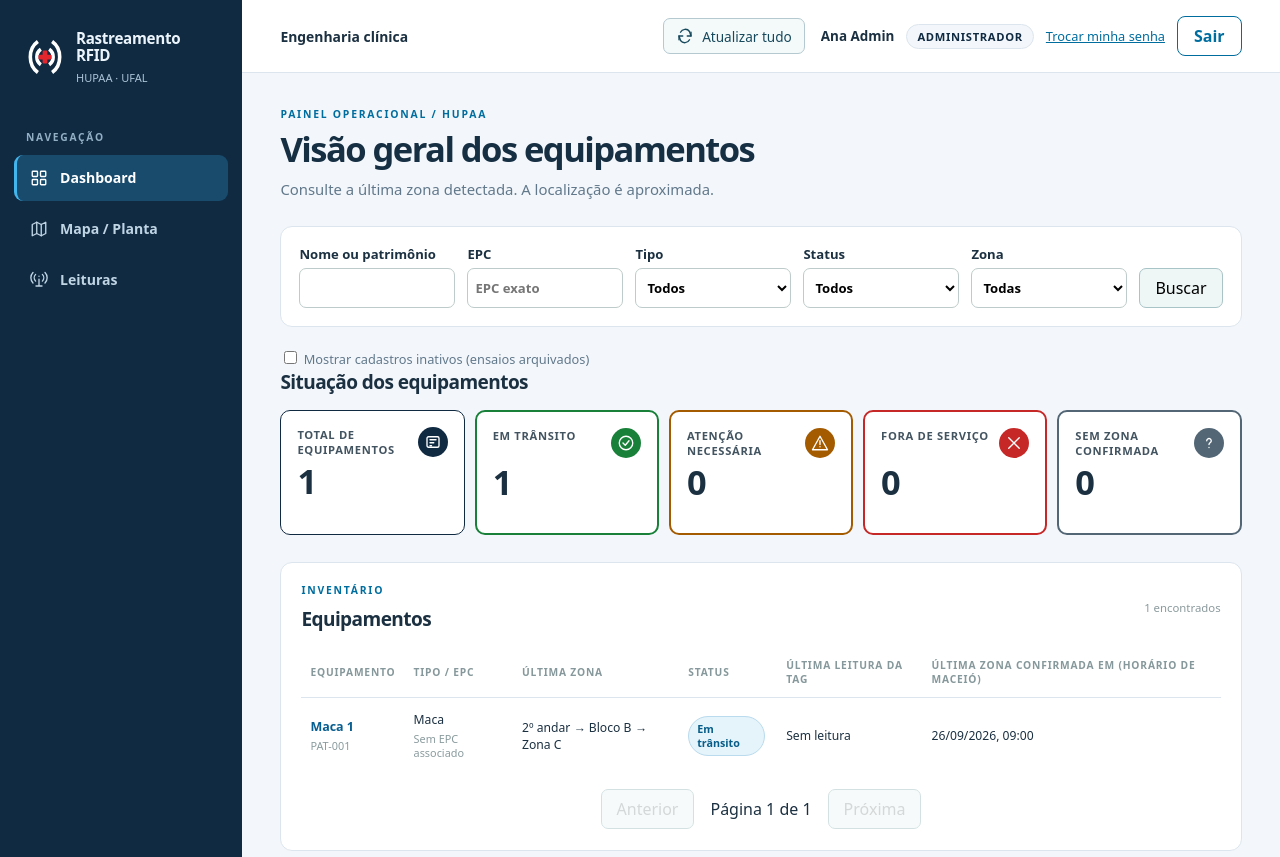
Scenario: correção manual no painel do equipamento › cadastro envia só o que mudou
The width and height of the screenshot is (1280, 857).
Click the button "Maca 1 PAT-001" at (332, 735), box [310,718,354,753]
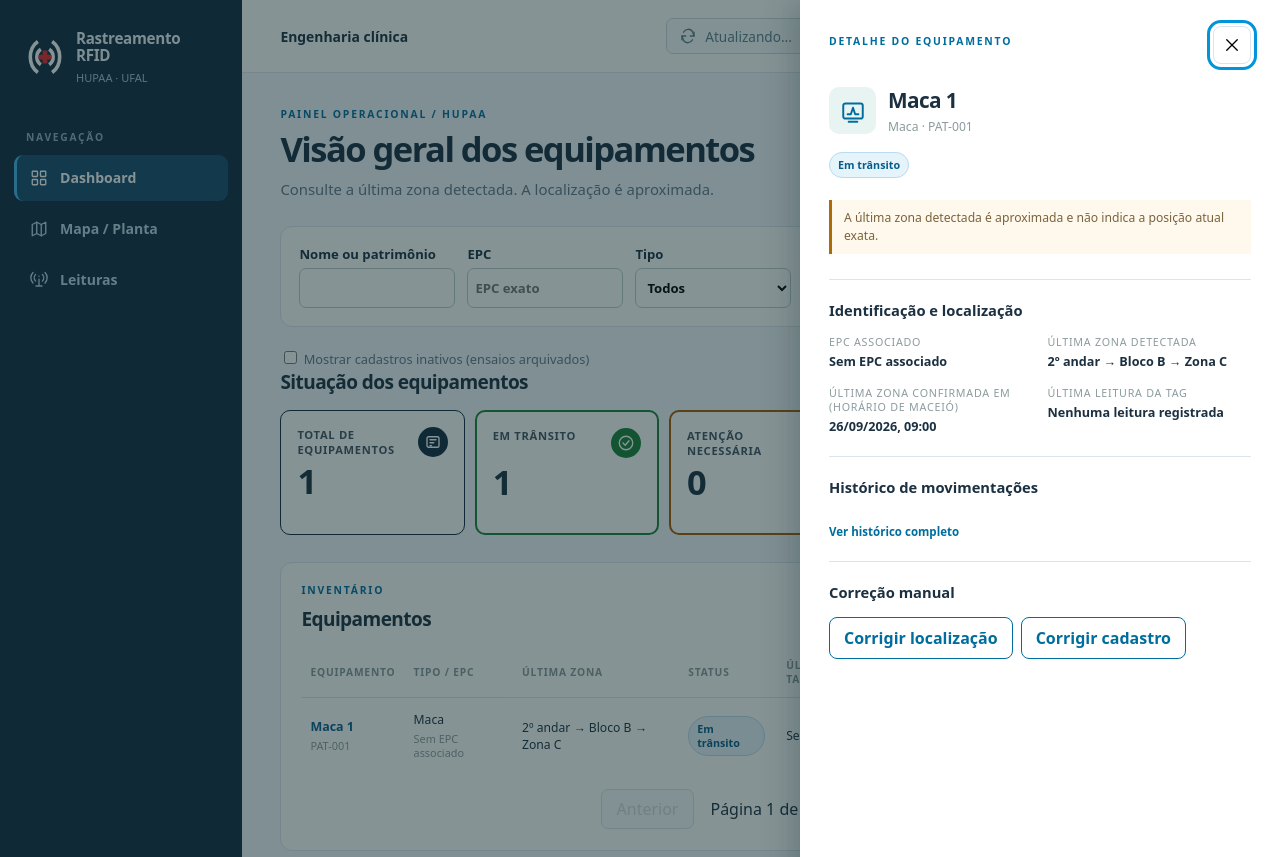
Click the button "Corrigir cadastro" at (1103, 638), box [1021,617,1186,659]
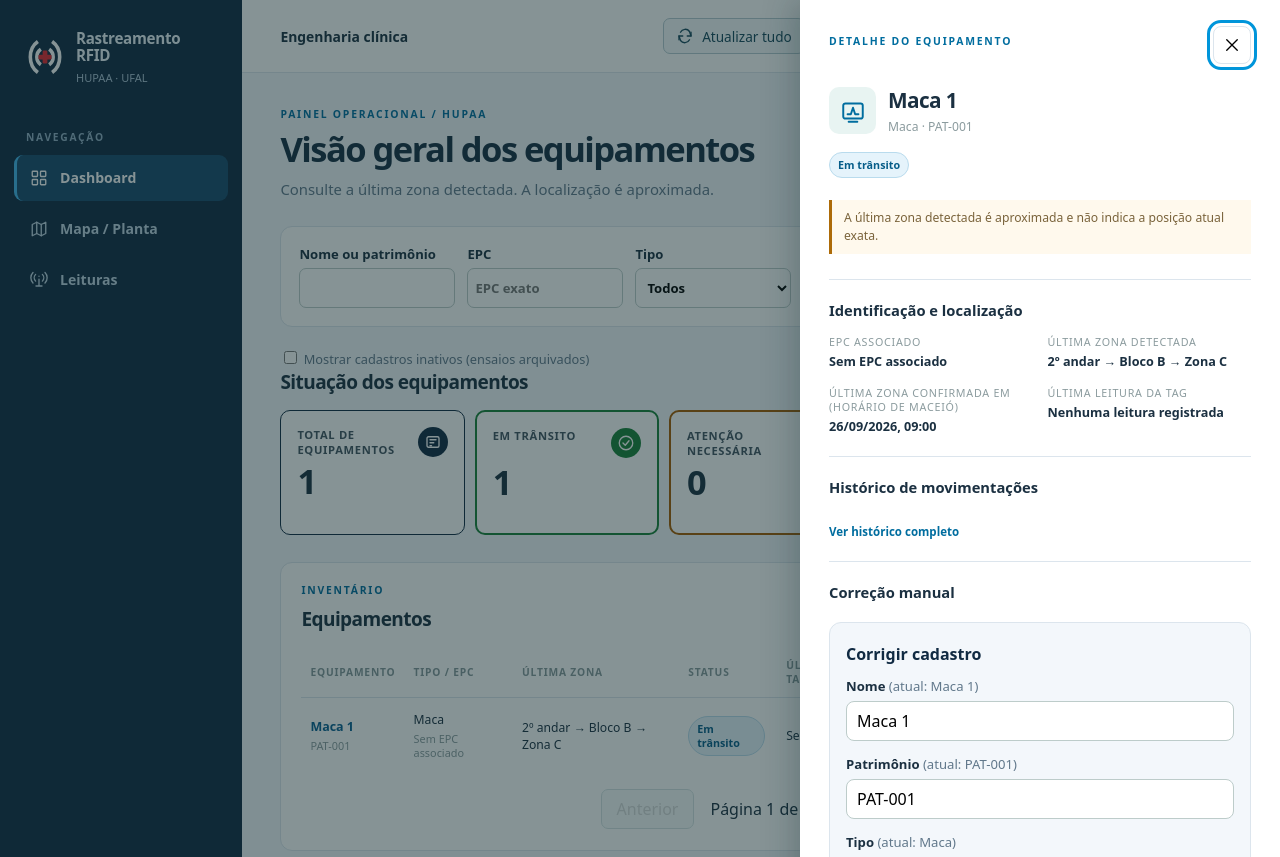
expect the text "(atual: PAT-001)" is shown: met, box [923,755,1017,773]
Replace the text in the field labelled "Patrimônio (atual: PAT-001)" with " PAT-101 " at (1040, 799), box [846,779,1234,819]
(page scrolled)
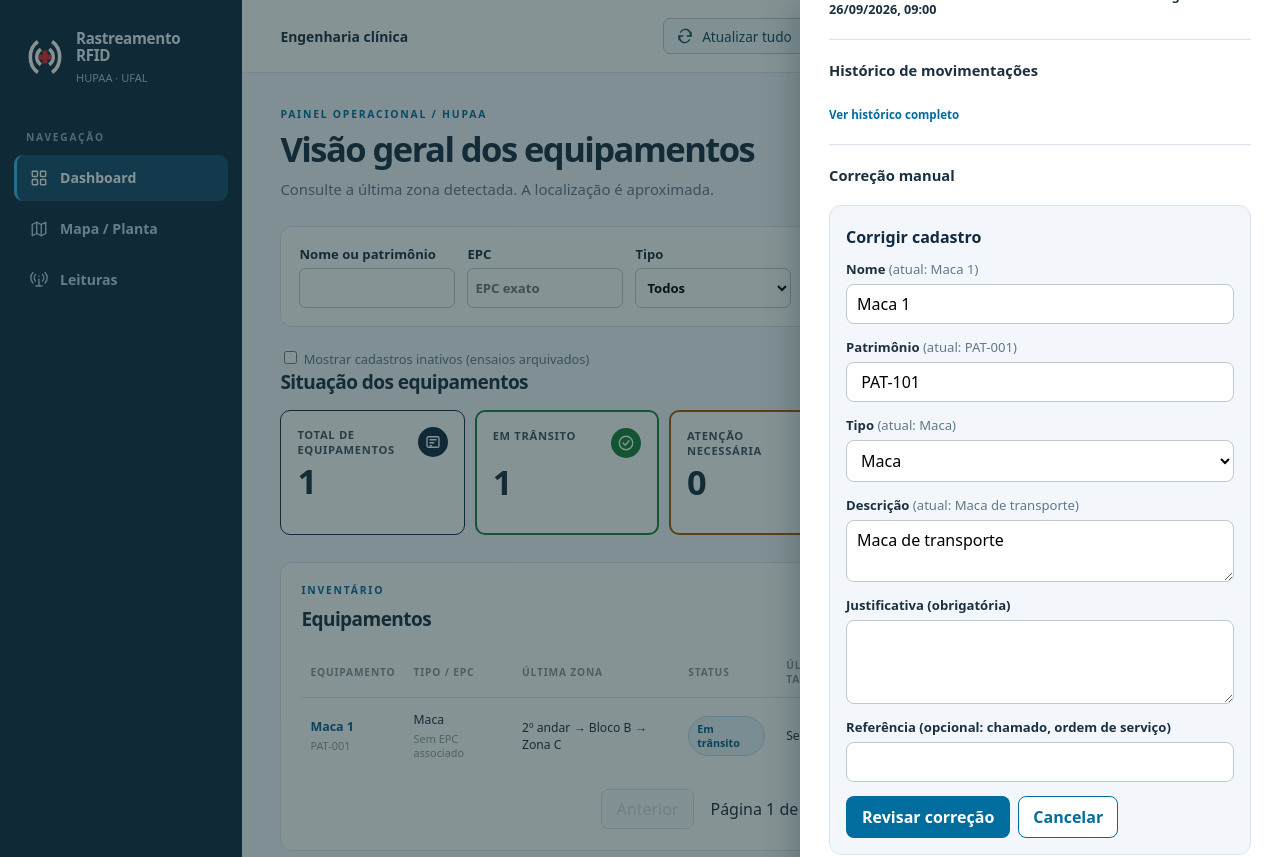
Type "Patrimônio errado" into the text box labelled "Justificativa (obrigatória)" at (1040, 662), box [846,620,1234,704]
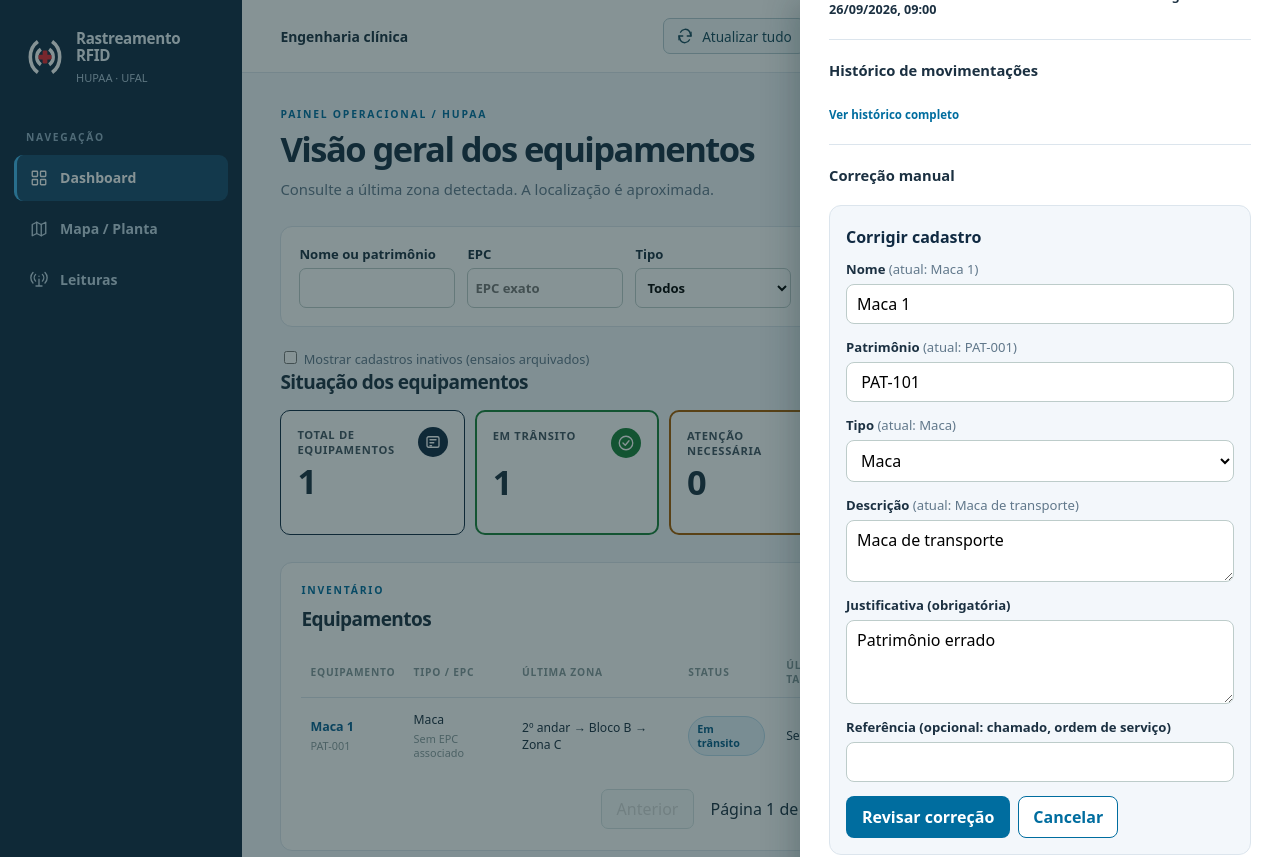
Click the button "Revisar correção" at (928, 817), box [846,796,1010,838]
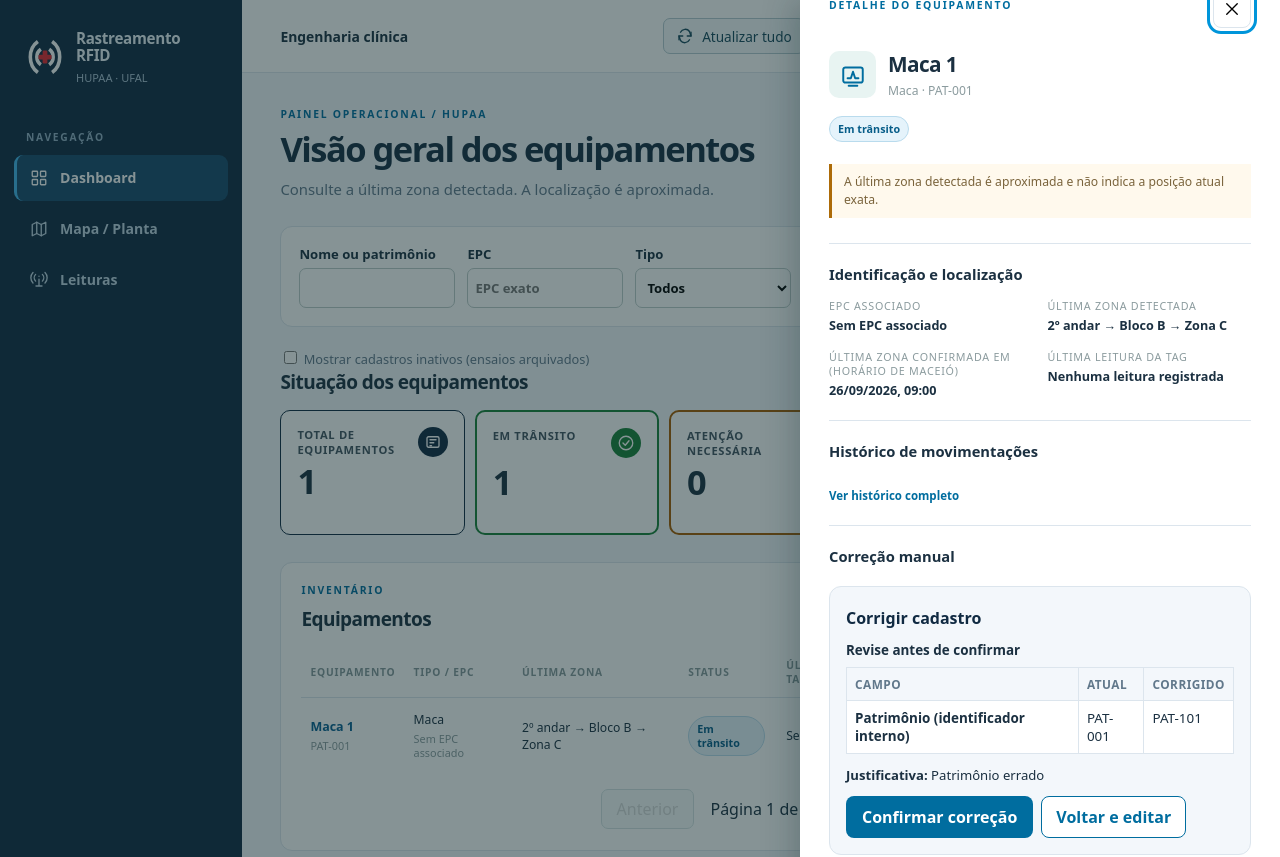
Click the button "Confirmar correção" at (940, 817), box [846,796,1033,838]
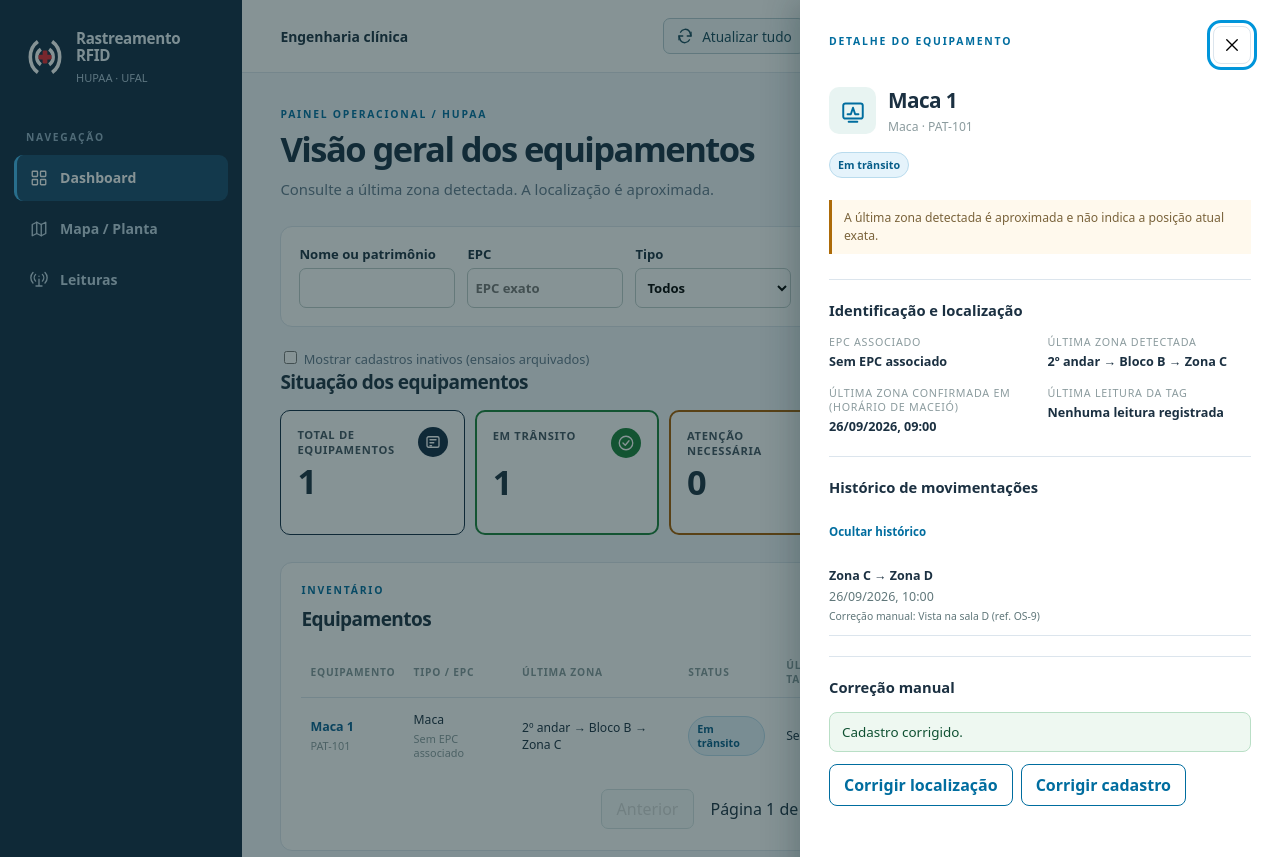
expect the text "Cadastro corrigido." is shown: met, box [829,712,1251,752]
